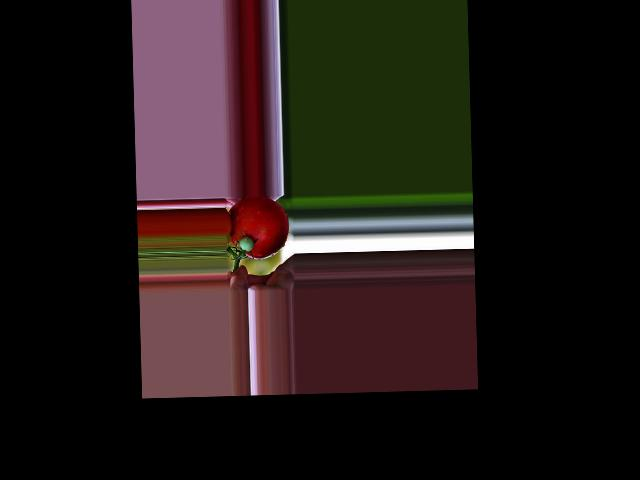tomato: (228, 195, 289, 260)
